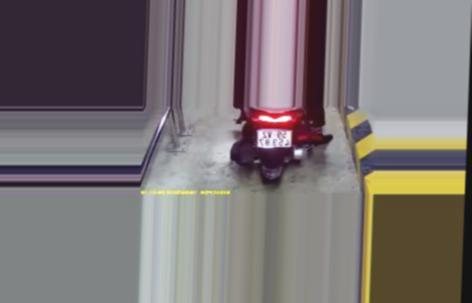License_Plate: (254, 127, 293, 149)
